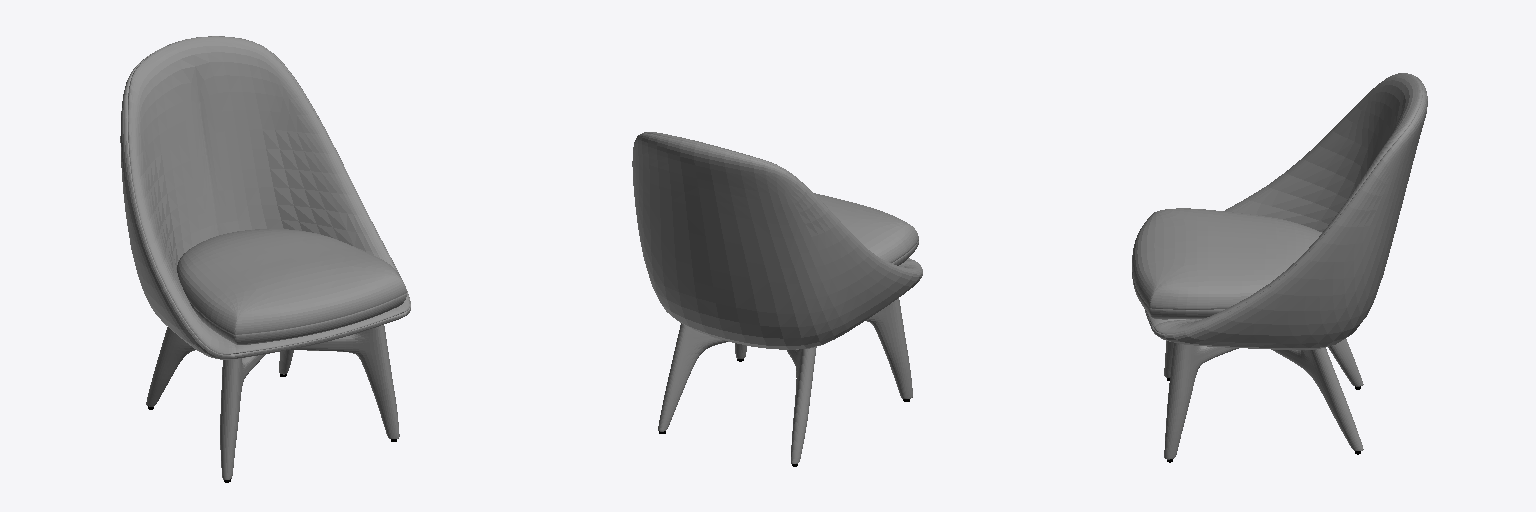
File: fad003.obj
3 views of the same model, side by side, from view 1: azimuth 30°, elevation 25°; view 2: azimuth 150°, elevation 25°; view 3: azimuth 270°, elevation 25° (orthographic).
Visible parts, largest first — view 1: 3dstylish03, 3dstylish01, 3dstylish00; view 2: 3dstylish03, 3dstylish00, 3dstylish01; view 3: 3dstylish03, 3dstylish01, 3dstylish00.
Boxes of the visible parts, x1=… form: 3dstylish03: x1=120, y1=36, x2=410, y2=359; 3dstylish01: x1=177, y1=229, x2=406, y2=344; 3dstylish00: x1=146, y1=325, x2=399, y2=479; 3dstylish03: x1=632, y1=132, x2=922, y2=349; 3dstylish00: x1=658, y1=298, x2=912, y2=463; 3dstylish01: x1=814, y1=193, x2=918, y2=265; 3dstylish03: x1=1144, y1=73, x2=1427, y2=349; 3dstylish01: x1=1132, y1=208, x2=1321, y2=319; 3dstylish00: x1=1164, y1=339, x2=1363, y2=459.
Size of the model in its own units: 24.93 by 35.97 by 29.33.